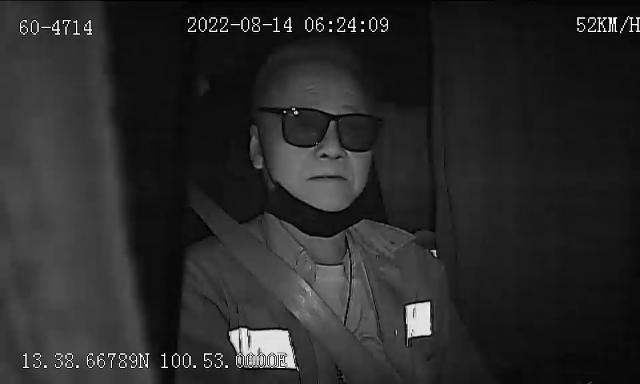SafeDriving: (283, 106, 321, 124)
Seatbelt: (184, 184, 393, 384)
